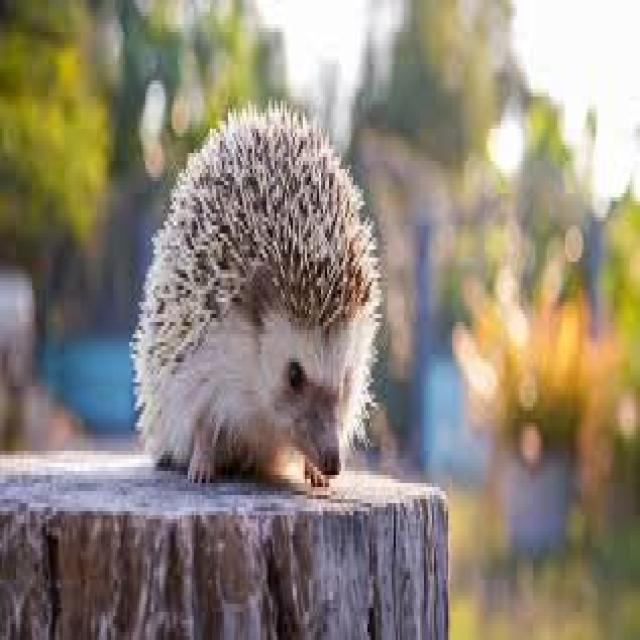Hedgehog: (135, 102, 386, 489)
